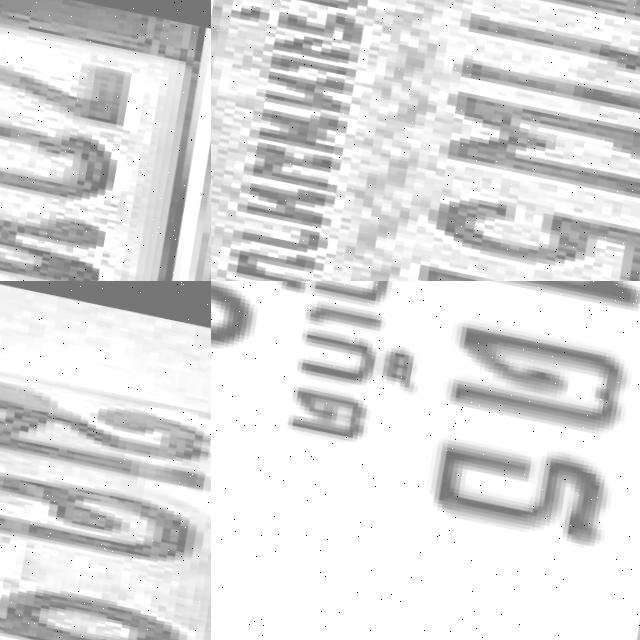license-plate: (211, 281, 640, 640), (211, 0, 640, 281), (0, 281, 211, 640), (0, 0, 211, 281)
